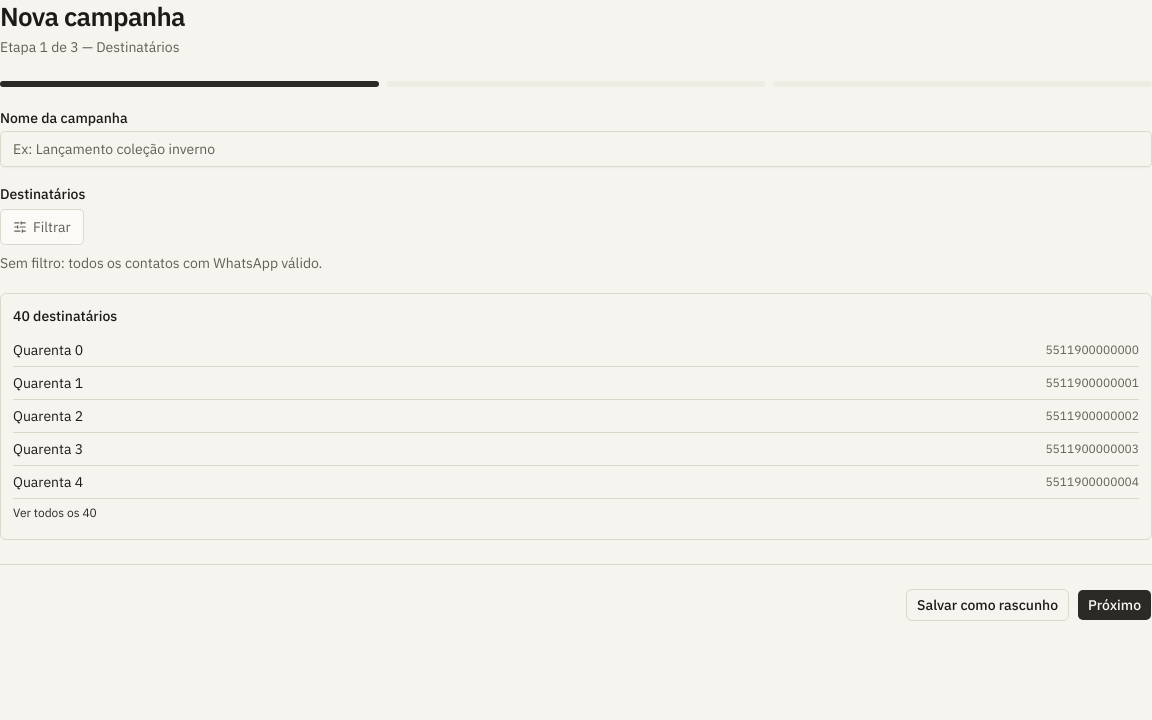
Test: B42-02 — campanha escolhe quem recebe pelo filtro de Contatos › CA-B42-06: should refazer a contagem e a amostra ao acrescentar e remover uma condição
The width and height of the screenshot is (1152, 720).
Expected: the text "40 destinatários" is shown, top-left (13, 306), bottom-right (117, 326)
Expected: the text "Quarenta 0" is shown, top-left (13, 340), bottom-right (83, 360)
Step 1. Click the button "Filtrar" → [42, 226], box top-left (0, 208), bottom-right (84, 244)
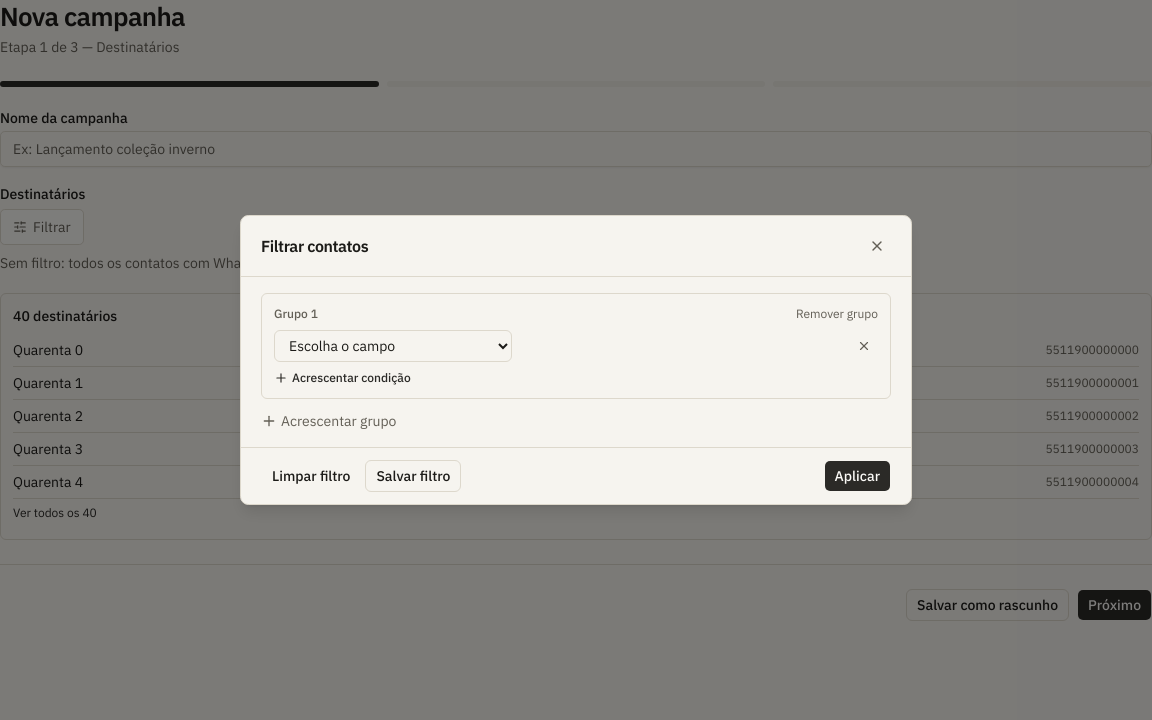
Step 2. Select "Cidade" in the dropdown named "Campo" → [393, 346], box top-left (274, 330), bottom-right (512, 362)
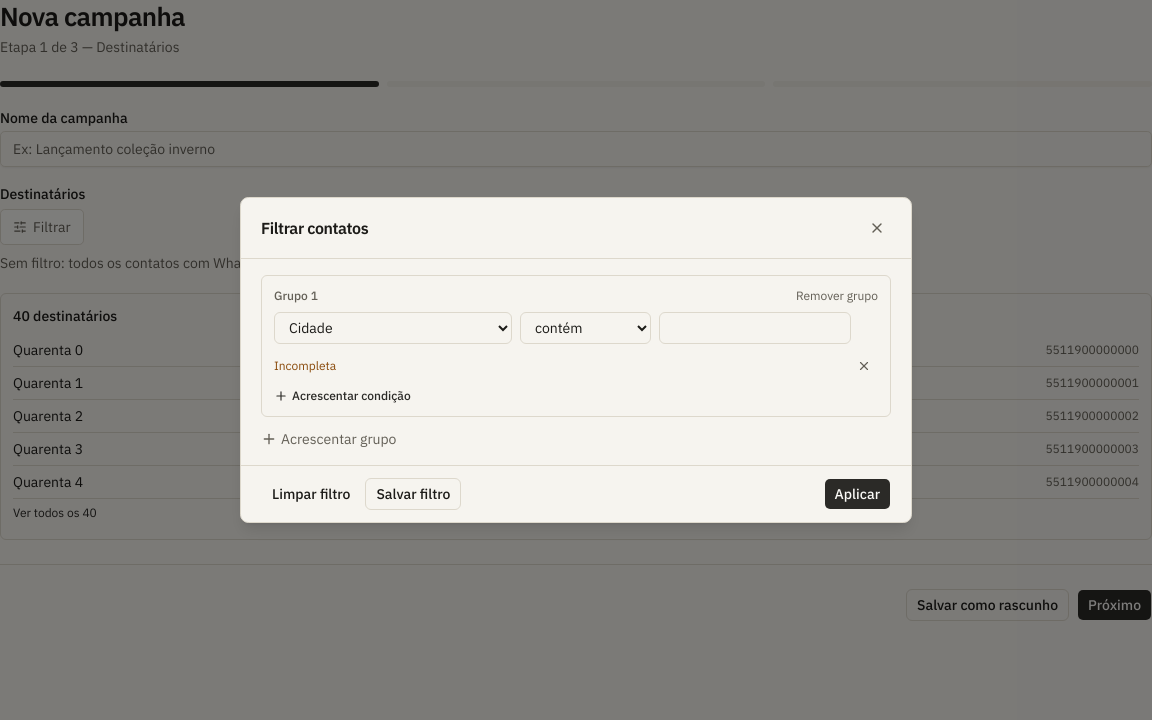
Step 3. Type "Fortaleza" into the field named "Valor" → [755, 328], box top-left (659, 312), bottom-right (851, 344)
Step 4. Click the button "Aplicar" → [857, 494], box top-left (824, 478), bottom-right (891, 510)
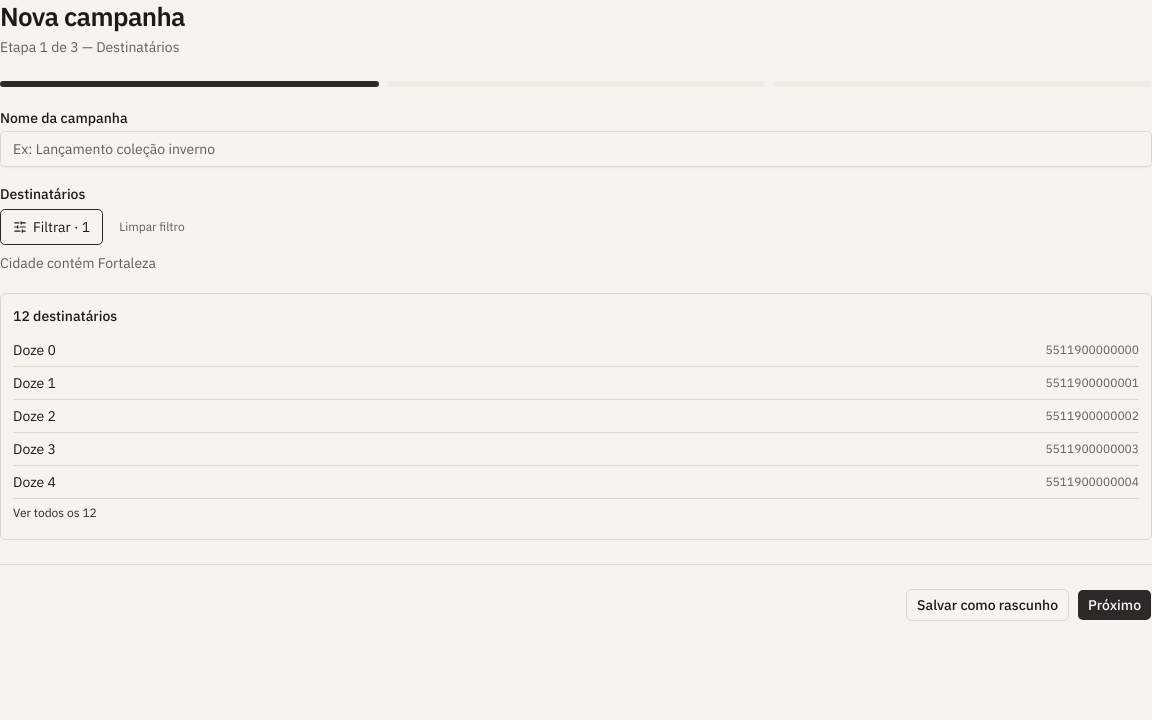
Now the text "12 destinatários" is shown, box top-left (13, 306), bottom-right (117, 326)
Now the text "Doze 0" is shown, box top-left (13, 340), bottom-right (56, 360)
Now the text "Quarenta 0" is gone
Step 5. Click the button "Filtrar · 1" → [52, 226], box top-left (0, 208), bottom-right (103, 244)
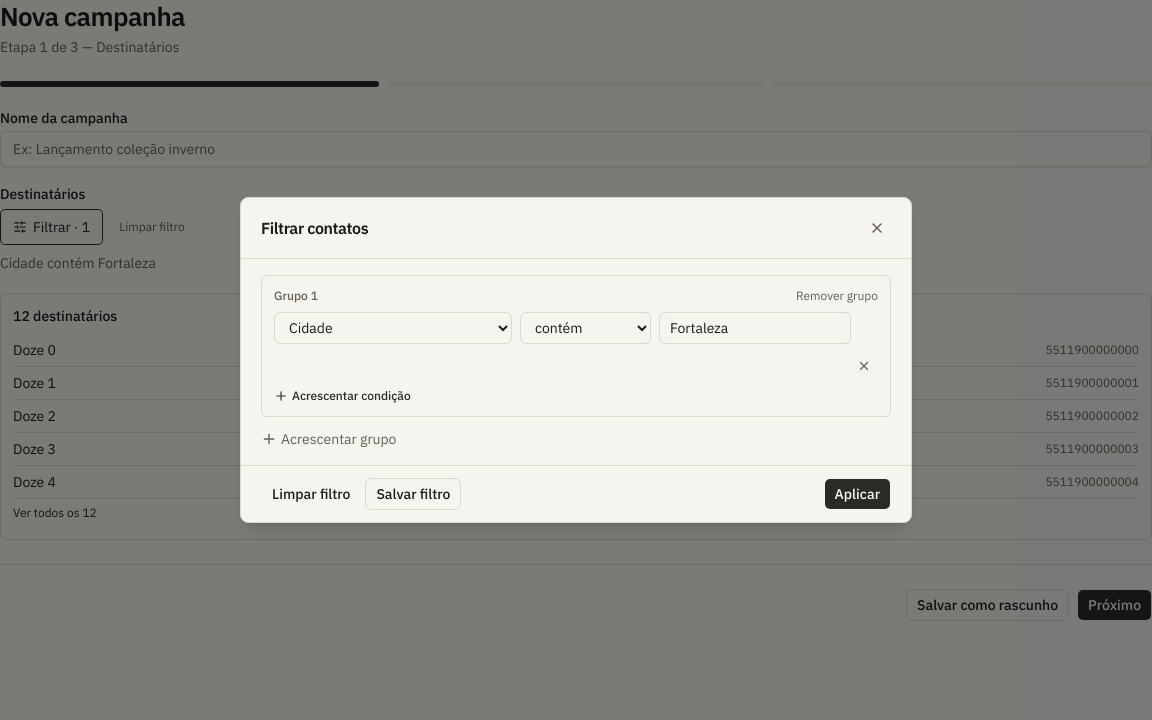
Step 6. Click the button named "Remover condição" → [864, 366], box top-left (850, 352), bottom-right (878, 380)
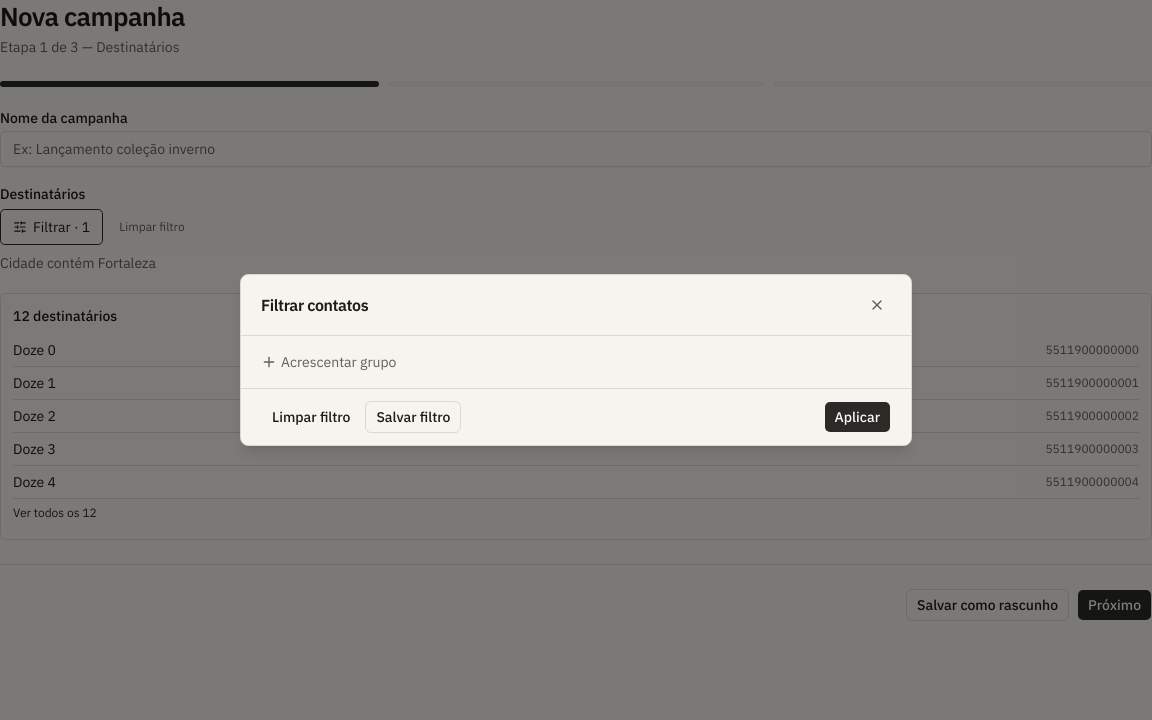
Step 7. Click the button "Aplicar" → [857, 417], box top-left (824, 401), bottom-right (891, 433)
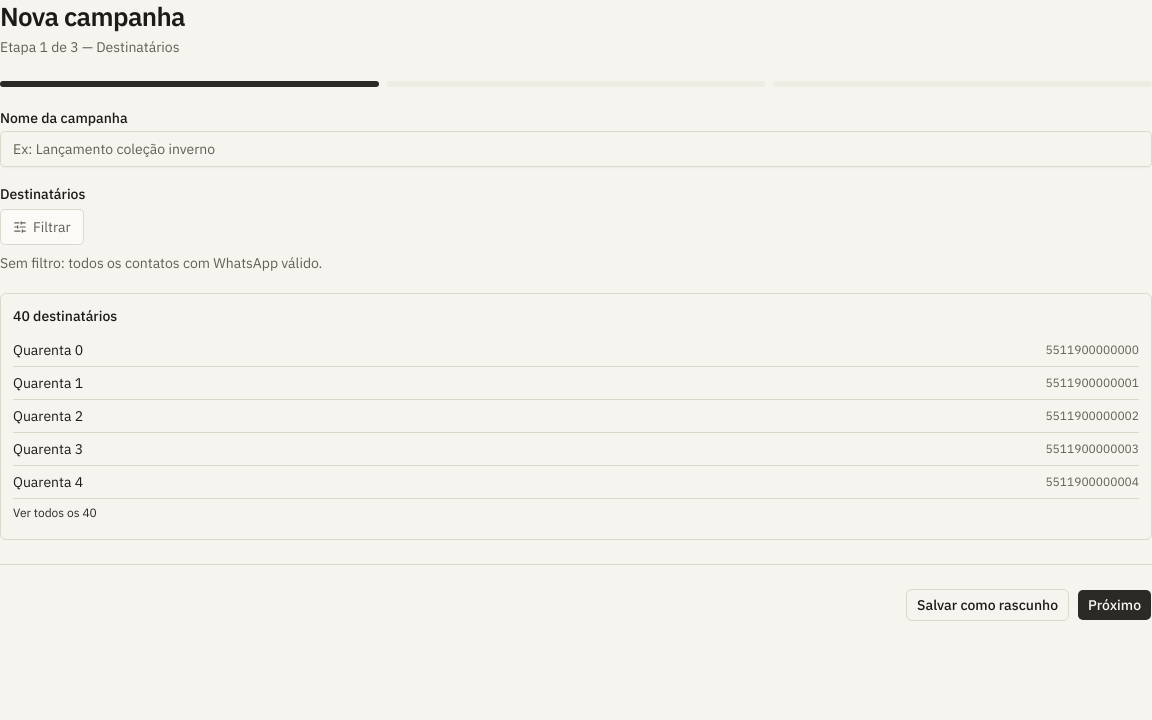
Now the text "40 destinatários" is shown, box top-left (13, 306), bottom-right (117, 326)
Now the text "Quarenta 0" is shown, box top-left (13, 340), bottom-right (83, 360)
